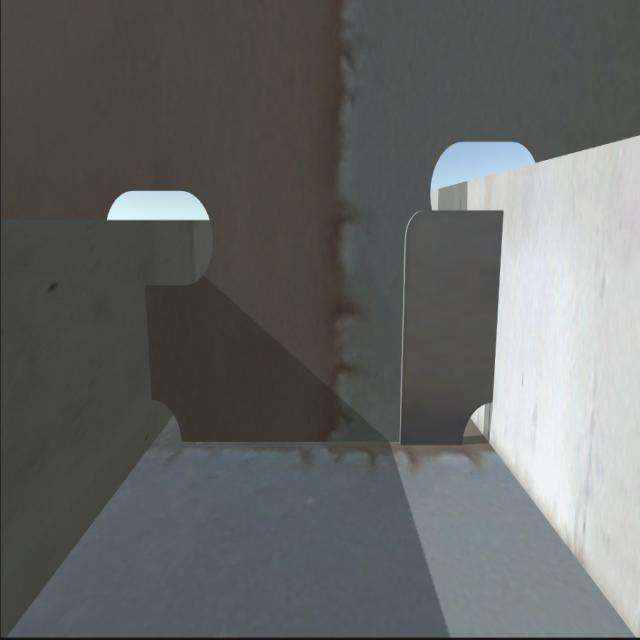fillet_hole: (461, 400, 497, 446), (149, 400, 182, 445)
fillet_yong_jeop_jang: (180, 432, 466, 456)
longi_yong_jeop_jang: (479, 205, 508, 402), (140, 289, 159, 394)
plate_CP05: (404, 200, 498, 452)
